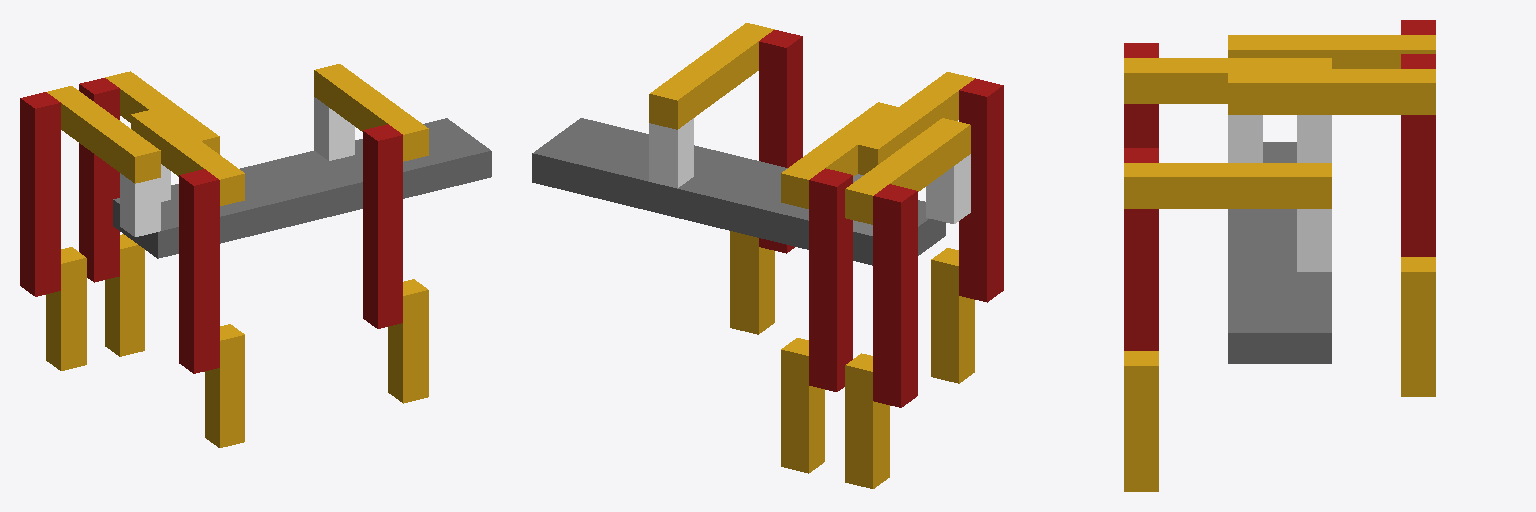
URDF robot description (v0):
<?xml version="1.0" encoding="utf-8"?>
<!-- =================================================================================== -->
<!-- |    This document was autogenerated by xacro from ../robots/v0variants/xacros/v0_4l_1.xacro | -->
<!-- |    EDITING THIS FILE BY HAND IS NOT RECOMMENDED                                 | -->
<!-- =================================================================================== -->
<robot name="v0">
  <material name="grey">
    <color rgba="0.5 0.5 0.5 1"/>
  </material>
  <material name="white">
    <color rgba="1 1 1 1"/>
  </material>
  <material name="yellow">
    <color rgba="0.91 0.7 0.14 1"/>
  </material>
  <material name="red">
    <color rgba="0.71 0.14 0.14 1"/>
  </material>
  <link name="body">
    <visual>
      <geometry>
        <box size="1.3 0.3 0.1"/>
      </geometry>
      <material name="grey"/>
      <origin rpy="0 0 0" xyz="0 0 0.7"/>
    </visual>
    <collision>
      <geometry>
        <box size="1.3 0.3 0.1"/>
      </geometry>
      <origin rpy="0 0 0" xyz="0 0 0.7"/>
    </collision>
    <inertial>
      <mass value="99.84"/>
      <inertia ixx="0.832" ixy="0.0" ixz="0.0" iyy="14.144" iyz="0.0" izz="14.8096"/>
    </inertial>
  </link>
  <link name="l1_segment_1">
    <visual>
      <geometry>
        <box size="0.1 0.1 0.2"/>
      </geometry>
      <material name="white"/>
      <origin rpy="0 0 0" xyz="0 0 0.1"/>
    </visual>
    <collision>
      <geometry>
        <box size="0.1 0.1 0.2"/>
      </geometry>
      <origin rpy="0 0 0" xyz="0 0 0.1"/>
    </collision>
    <inertial>
      <mass value="5.12"/>
      <inertia ixx="0.0213333333333" ixy="0.0" ixz="0.0" iyy="0.0213333333333" iyz="0.0" izz="0.00853333333333"/>
    </inertial>
  </link>
  <joint name="l1_base_to_joint_1" type="fixed">
    <parent link="body"/>
    <child link="l1_segment_1"/>
    <origin rpy="0 0 0" xyz="-0.6881851034585671 -0.1 0.75"/>
  </joint>
  <link name="l1_segment_2_HIP">
    <visual>
      <geometry>
        <box size="0.1 0.6 0.1"/>
      </geometry>
      <material name="yellow"/>
      <origin rpy="0 0 0" xyz="0 0.25 0"/>
    </visual>
    <collision>
      <geometry>
        <box size="0.1 0.6 0.1"/>
      </geometry>
      <origin rpy="0 0 0" xyz="0 0.25 0"/>
    </collision>
    <inertial>
      <mass value="15.36"/>
      <inertia ixx="0.4736" ixy="0.0" ixz="0.0" iyy="0.0256" iyz="0.0" izz="0.4736"/>
    </inertial>
  </link>
  <joint name="l1_joint_1_to_2" type="revolute">
    <parent link="l1_segment_1"/>
    <child link="l1_segment_2_HIP"/>
    <origin rpy="0 0 0" xyz="0 0 0.25"/>
    <axis xyz="0.0 0.0 1.0"/>
    <limit effort="2048" lower="-1.2" upper="1.2" velocity="20"/>
  </joint>
  <link name="l1_segment_3_THIGH">
    <visual>
      <geometry>
        <box size="0.1 0.1 0.7"/>
      </geometry>
      <material name="red"/>
      <origin rpy="0 0 0" xyz="0 0 -0.3"/>
    </visual>
    <collision>
      <geometry>
        <box size="0.1 0.1 0.7"/>
      </geometry>
      <origin rpy="0 0 0" xyz="0 0 -0.3"/>
    </collision>
    <inertial>
      <mass value="17.92"/>
      <inertia ixx="0.746666666667" ixy="0.0" ixz="0.0" iyy="0.746666666667" iyz="0.0" izz="0.0298666666667"/>
    </inertial>
  </link>
  <joint name="l1_joint_2_to_3" type="revolute">
    <parent link="l1_segment_2_HIP"/>
    <child link="l1_segment_3_THIGH"/>
    <origin rpy="0 0 0" xyz="-0.1 0.5 0"/>
    <axis xyz="1.0 0.0 0.0"/>
    <limit effort="2048" lower="-0.2" upper="0.75" velocity="20"/>
  </joint>
  <link name="l1_segment_4_FOOT">
    <visual>
      <geometry>
        <box size="0.1 0.1 0.4"/>
      </geometry>
      <material name="yellow"/>
      <origin rpy="0 0 0" xyz="0 0 -0.2"/>
    </visual>
    <collision>
      <geometry>
        <box size="0.1 0.1 0.4"/>
      </geometry>
      <origin rpy="0 0 0" xyz="0 0 -0.2"/>
    </collision>
    <inertial>
      <mass value="10.24"/>
      <inertia ixx="0.145066666667" ixy="0.0" ixz="0.0" iyy="0.145066666667" iyz="0.0" izz="0.0170666666667"/>
    </inertial>
  </link>
  <joint name="l1_joint_3_to_4_FOOT" type="revolute">
    <parent link="l1_segment_3_THIGH"/>
    <child link="l1_segment_4_FOOT"/>
    <origin rpy="0 0 0" xyz="0.1 0 -0.55"/>
    <axis xyz="1.0 0.0 0.0"/>
    <limit effort="2048" lower="-0.2" upper="0.5" velocity="20"/>
  </joint>
  <link name="r2_segment_1">
    <visual>
      <geometry>
        <box size="0.1 0.1 0.2"/>
      </geometry>
      <material name="white"/>
      <origin rpy="0 0 0" xyz="0 0 0.1"/>
    </visual>
    <collision>
      <geometry>
        <box size="0.1 0.1 0.2"/>
      </geometry>
      <origin rpy="0 0 0" xyz="0 0 0.1"/>
    </collision>
    <inertial>
      <mass value="5.12"/>
      <inertia ixx="0.0213333333333" ixy="0.0" ixz="0.0" iyy="0.0213333333333" iyz="0.0" izz="0.00853333333333"/>
    </inertial>
  </link>
  <joint name="r2_base_to_joint_1" type="fixed">
    <parent link="body"/>
    <child link="r2_segment_1"/>
    <origin rpy="0 0 0" xyz="-0.532432233168317 0.1 0.75"/>
  </joint>
  <link name="r2_segment_2_HIP">
    <visual>
      <geometry>
        <box size="0.1 0.6 0.1"/>
      </geometry>
      <material name="yellow"/>
      <origin rpy="0 0 0" xyz="0 -0.25 0"/>
    </visual>
    <collision>
      <geometry>
        <box size="0.1 0.6 0.1"/>
      </geometry>
      <origin rpy="0 0 0" xyz="0 -0.25 0"/>
    </collision>
    <inertial>
      <mass value="15.36"/>
      <inertia ixx="0.4736" ixy="0.0" ixz="0.0" iyy="0.0256" iyz="0.0" izz="0.4736"/>
    </inertial>
  </link>
  <joint name="r2_joint_1_to_2" type="revolute">
    <parent link="r2_segment_1"/>
    <child link="r2_segment_2_HIP"/>
    <origin rpy="0 0 0" xyz="0 0 0.25"/>
    <axis xyz="0.0 0.0 1.0"/>
    <limit effort="2048" lower="-1.2" upper="1.2" velocity="20"/>
  </joint>
  <link name="r2_segment_3_THIGH">
    <visual>
      <geometry>
        <box size="0.1 0.1 0.7"/>
      </geometry>
      <material name="red"/>
      <origin rpy="0 0 0" xyz="0 0 -0.3"/>
    </visual>
    <collision>
      <geometry>
        <box size="0.1 0.1 0.7"/>
      </geometry>
      <origin rpy="0 0 0" xyz="0 0 -0.3"/>
    </collision>
    <inertial>
      <mass value="17.92"/>
      <inertia ixx="0.746666666667" ixy="0.0" ixz="0.0" iyy="0.746666666667" iyz="0.0" izz="0.0298666666667"/>
    </inertial>
  </link>
  <joint name="r2_joint_2_to_3" type="revolute">
    <parent link="r2_segment_2_HIP"/>
    <child link="r2_segment_3_THIGH"/>
    <origin rpy="0 0 0" xyz="-0.1 -0.5 0"/>
    <axis xyz="1.0 0.0 0.0"/>
    <limit effort="2048" lower="-0.75" upper="0.2" velocity="20"/>
  </joint>
  <link name="r2_segment_4_FOOT">
    <visual>
      <geometry>
        <box size="0.1 0.1 0.4"/>
      </geometry>
      <material name="yellow"/>
      <origin rpy="0 0 0" xyz="0 0 -0.2"/>
    </visual>
    <collision>
      <geometry>
        <box size="0.1 0.1 0.4"/>
      </geometry>
      <origin rpy="0 0 0" xyz="0 0 -0.2"/>
    </collision>
    <inertial>
      <mass value="10.24"/>
      <inertia ixx="0.145066666667" ixy="0.0" ixz="0.0" iyy="0.145066666667" iyz="0.0" izz="0.0170666666667"/>
    </inertial>
  </link>
  <joint name="r2_joint_3_to_4_FOOT" type="revolute">
    <parent link="r2_segment_3_THIGH"/>
    <child link="r2_segment_4_FOOT"/>
    <origin rpy="0 0 0" xyz="0.1 0 -0.55"/>
    <axis xyz="1.0 0.0 0.0"/>
    <limit effort="2048" lower="-0.5" upper="0.2" velocity="20"/>
  </joint>
  <link name="l3_segment_1">
    <visual>
      <geometry>
        <box size="0.1 0.1 0.2"/>
      </geometry>
      <material name="white"/>
      <origin rpy="0 0 0" xyz="0 0 0.1"/>
    </visual>
    <collision>
      <geometry>
        <box size="0.1 0.1 0.2"/>
      </geometry>
      <origin rpy="0 0 0" xyz="0 0 0.1"/>
    </collision>
    <inertial>
      <mass value="5.12"/>
      <inertia ixx="0.0213333333333" ixy="0.0" ixz="0.0" iyy="0.0213333333333" iyz="0.0" izz="0.00853333333333"/>
    </inertial>
  </link>
  <joint name="l3_base_to_joint_1" type="fixed">
    <parent link="body"/>
    <child link="l3_segment_1"/>
    <origin rpy="0 0 0" xyz="-0.4590272626880514 -0.1 0.75"/>
  </joint>
  <link name="l3_segment_2_HIP">
    <visual>
      <geometry>
        <box size="0.1 0.6 0.1"/>
      </geometry>
      <material name="yellow"/>
      <origin rpy="0 0 0" xyz="0 0.25 0"/>
    </visual>
    <collision>
      <geometry>
        <box size="0.1 0.6 0.1"/>
      </geometry>
      <origin rpy="0 0 0" xyz="0 0.25 0"/>
    </collision>
    <inertial>
      <mass value="15.36"/>
      <inertia ixx="0.4736" ixy="0.0" ixz="0.0" iyy="0.0256" iyz="0.0" izz="0.4736"/>
    </inertial>
  </link>
  <joint name="l3_joint_1_to_2" type="revolute">
    <parent link="l3_segment_1"/>
    <child link="l3_segment_2_HIP"/>
    <origin rpy="0 0 0" xyz="0 0 0.25"/>
    <axis xyz="0.0 0.0 1.0"/>
    <limit effort="2048" lower="-1.2" upper="1.2" velocity="20"/>
  </joint>
  <link name="l3_segment_3_THIGH">
    <visual>
      <geometry>
        <box size="0.1 0.1 0.7"/>
      </geometry>
      <material name="red"/>
      <origin rpy="0 0 0" xyz="0 0 -0.3"/>
    </visual>
    <collision>
      <geometry>
        <box size="0.1 0.1 0.7"/>
      </geometry>
      <origin rpy="0 0 0" xyz="0 0 -0.3"/>
    </collision>
    <inertial>
      <mass value="17.92"/>
      <inertia ixx="0.746666666667" ixy="0.0" ixz="0.0" iyy="0.746666666667" iyz="0.0" izz="0.0298666666667"/>
    </inertial>
  </link>
  <joint name="l3_joint_2_to_3" type="revolute">
    <parent link="l3_segment_2_HIP"/>
    <child link="l3_segment_3_THIGH"/>
    <origin rpy="0 0 0" xyz="-0.1 0.5 0"/>
    <axis xyz="1.0 0.0 0.0"/>
    <limit effort="2048" lower="-0.2" upper="0.75" velocity="20"/>
  </joint>
  <link name="l3_segment_4_FOOT">
    <visual>
      <geometry>
        <box size="0.1 0.1 0.4"/>
      </geometry>
      <material name="yellow"/>
      <origin rpy="0 0 0" xyz="0 0 -0.2"/>
    </visual>
    <collision>
      <geometry>
        <box size="0.1 0.1 0.4"/>
      </geometry>
      <origin rpy="0 0 0" xyz="0 0 -0.2"/>
    </collision>
    <inertial>
      <mass value="10.24"/>
      <inertia ixx="0.145066666667" ixy="0.0" ixz="0.0" iyy="0.145066666667" iyz="0.0" izz="0.0170666666667"/>
    </inertial>
  </link>
  <joint name="l3_joint_3_to_4_FOOT" type="revolute">
    <parent link="l3_segment_3_THIGH"/>
    <child link="l3_segment_4_FOOT"/>
    <origin rpy="0 0 0" xyz="0.1 0 -0.55"/>
    <axis xyz="1.0 0.0 0.0"/>
    <limit effort="2048" lower="-0.2" upper="0.5" velocity="20"/>
  </joint>
  <link name="r4_segment_1">
    <visual>
      <geometry>
        <box size="0.1 0.1 0.2"/>
      </geometry>
      <material name="white"/>
      <origin rpy="0 0 0" xyz="0 0 0.1"/>
    </visual>
    <collision>
      <geometry>
        <box size="0.1 0.1 0.2"/>
      </geometry>
      <origin rpy="0 0 0" xyz="0 0 0.1"/>
    </collision>
    <inertial>
      <mass value="5.12"/>
      <inertia ixx="0.0213333333333" ixy="0.0" ixz="0.0" iyy="0.0213333333333" iyz="0.0" izz="0.00853333333333"/>
    </inertial>
  </link>
  <joint name="r4_base_to_joint_1" type="fixed">
    <parent link="body"/>
    <child link="r4_segment_1"/>
    <origin rpy="0 0 0" xyz="0.18298222927552854 0.1 0.75"/>
  </joint>
  <link name="r4_segment_2_HIP">
    <visual>
      <geometry>
        <box size="0.1 0.6 0.1"/>
      </geometry>
      <material name="yellow"/>
      <origin rpy="0 0 0" xyz="0 -0.25 0"/>
    </visual>
    <collision>
      <geometry>
        <box size="0.1 0.6 0.1"/>
      </geometry>
      <origin rpy="0 0 0" xyz="0 -0.25 0"/>
    </collision>
    <inertial>
      <mass value="15.36"/>
      <inertia ixx="0.4736" ixy="0.0" ixz="0.0" iyy="0.0256" iyz="0.0" izz="0.4736"/>
    </inertial>
  </link>
  <joint name="r4_joint_1_to_2" type="revolute">
    <parent link="r4_segment_1"/>
    <child link="r4_segment_2_HIP"/>
    <origin rpy="0 0 0" xyz="0 0 0.25"/>
    <axis xyz="0.0 0.0 1.0"/>
    <limit effort="2048" lower="-1.2" upper="1.2" velocity="20"/>
  </joint>
  <link name="r4_segment_3_THIGH">
    <visual>
      <geometry>
        <box size="0.1 0.1 0.7"/>
      </geometry>
      <material name="red"/>
      <origin rpy="0 0 0" xyz="0 0 -0.3"/>
    </visual>
    <collision>
      <geometry>
        <box size="0.1 0.1 0.7"/>
      </geometry>
      <origin rpy="0 0 0" xyz="0 0 -0.3"/>
    </collision>
    <inertial>
      <mass value="17.92"/>
      <inertia ixx="0.746666666667" ixy="0.0" ixz="0.0" iyy="0.746666666667" iyz="0.0" izz="0.0298666666667"/>
    </inertial>
  </link>
  <joint name="r4_joint_2_to_3" type="revolute">
    <parent link="r4_segment_2_HIP"/>
    <child link="r4_segment_3_THIGH"/>
    <origin rpy="0 0 0" xyz="-0.1 -0.5 0"/>
    <axis xyz="1.0 0.0 0.0"/>
    <limit effort="2048" lower="-0.75" upper="0.2" velocity="20"/>
  </joint>
  <link name="r4_segment_4_FOOT">
    <visual>
      <geometry>
        <box size="0.1 0.1 0.4"/>
      </geometry>
      <material name="yellow"/>
      <origin rpy="0 0 0" xyz="0 0 -0.2"/>
    </visual>
    <collision>
      <geometry>
        <box size="0.1 0.1 0.4"/>
      </geometry>
      <origin rpy="0 0 0" xyz="0 0 -0.2"/>
    </collision>
    <inertial>
      <mass value="10.24"/>
      <inertia ixx="0.145066666667" ixy="0.0" ixz="0.0" iyy="0.145066666667" iyz="0.0" izz="0.0170666666667"/>
    </inertial>
  </link>
  <joint name="r4_joint_3_to_4_FOOT" type="revolute">
    <parent link="r4_segment_3_THIGH"/>
    <child link="r4_segment_4_FOOT"/>
    <origin rpy="0 0 0" xyz="0.1 0 -0.55"/>
    <axis xyz="1.0 0.0 0.0"/>
    <limit effort="2048" lower="-0.5" upper="0.2" velocity="20"/>
  </joint>
</robot>

--- Render facts (derived) ---
The picture shows the robot from 3 angles, left to right: view 1: azimuth 30°, elevation 25°; view 2: azimuth 150°, elevation 25°; view 3: azimuth 270°, elevation 25°; orthographic projection.
Robot: v0 — 17 links, 16 joints (12 revolute, 4 fixed); root link body; default pose: all joints at 0.
Visible links, largest first — view 1: body, l1_segment_3_THIGH, r2_segment_3_THIGH, r4_segment_3_THIGH, l3_segment_3_THIGH, l1_segment_2_HIP, r4_segment_2_HIP, l1_segment_4_FOOT, r4_segment_4_FOOT, r2_segment_2_HIP, r2_segment_4_FOOT, l3_segment_4_FOOT (+3 smaller); view 2: body, l1_segment_3_THIGH, l3_segment_3_THIGH, r2_segment_3_THIGH, r4_segment_3_THIGH, r4_segment_2_HIP, l1_segment_2_HIP, l1_segment_4_FOOT, r2_segment_4_FOOT, l3_segment_4_FOOT, r2_segment_2_HIP, r4_segment_4_FOOT (+3 smaller); view 3: body, r4_segment_2_HIP, l3_segment_2_HIP, r2_segment_2_HIP, l3_segment_3_THIGH, r4_segment_3_THIGH, l1_segment_2_HIP, r4_segment_4_FOOT, l3_segment_4_FOOT, r4_segment_1, r2_segment_3_THIGH, r2_segment_1 (+2 smaller).
Boxes of the visible links, left/top/right/bottom form: body: left=113, top=118, right=491, bottom=258; l1_segment_3_THIGH: left=20, top=92, right=60, bottom=296; r2_segment_3_THIGH: left=179, top=169, right=219, bottom=373; r4_segment_3_THIGH: left=363, top=124, right=402, bottom=328; l3_segment_3_THIGH: left=79, top=78, right=119, bottom=282; l1_segment_2_HIP: left=47, top=86, right=160, bottom=183; r4_segment_2_HIP: left=314, top=64, right=428, bottom=161; l1_segment_4_FOOT: left=46, top=247, right=86, bottom=370; r4_segment_4_FOOT: left=388, top=279, right=428, bottom=403; r2_segment_2_HIP: left=131, top=109, right=244, bottom=205; r2_segment_4_FOOT: left=205, top=324, right=244, bottom=447; l3_segment_4_FOOT: left=105, top=234, right=144, bottom=356; body: left=532, top=118, right=945, bottom=265; l1_segment_3_THIGH: left=873, top=184, right=917, bottom=407; l3_segment_3_THIGH: left=809, top=168, right=852, bottom=391; r2_segment_3_THIGH: left=959, top=78, right=1003, bottom=302; r4_segment_3_THIGH: left=759, top=30, right=802, bottom=253; r4_segment_2_HIP: left=649, top=23, right=774, bottom=129; l1_segment_2_HIP: left=845, top=118, right=970, bottom=224; l1_segment_4_FOOT: left=845, top=353, right=889, bottom=488; r2_segment_4_FOOT: left=931, top=248, right=974, bottom=383; l3_segment_4_FOOT: left=781, top=338, right=824, bottom=473; r2_segment_2_HIP: left=850, top=72, right=974, bottom=174; r4_segment_4_FOOT: left=730, top=231, right=774, bottom=334; body: left=1228, top=142, right=1331, bottom=363; r4_segment_2_HIP: left=1124, top=163, right=1331, bottom=208; l3_segment_2_HIP: left=1228, top=69, right=1435, bottom=114; r2_segment_2_HIP: left=1124, top=58, right=1331, bottom=103; l3_segment_3_THIGH: left=1401, top=54, right=1435, bottom=256; r4_segment_3_THIGH: left=1124, top=148, right=1158, bottom=350; l1_segment_2_HIP: left=1228, top=35, right=1435, bottom=68; r4_segment_4_FOOT: left=1124, top=351, right=1158, bottom=491; l3_segment_4_FOOT: left=1401, top=257, right=1435, bottom=396; r4_segment_1: left=1297, top=209, right=1331, bottom=271; r2_segment_3_THIGH: left=1124, top=43, right=1158, bottom=147; r2_segment_1: left=1297, top=115, right=1331, bottom=162.
Size in the robot's own frame: 1.49 by 0.9 by 1 metres.
Geometry: primitives only (box / cylinder / sphere), no mesh files.